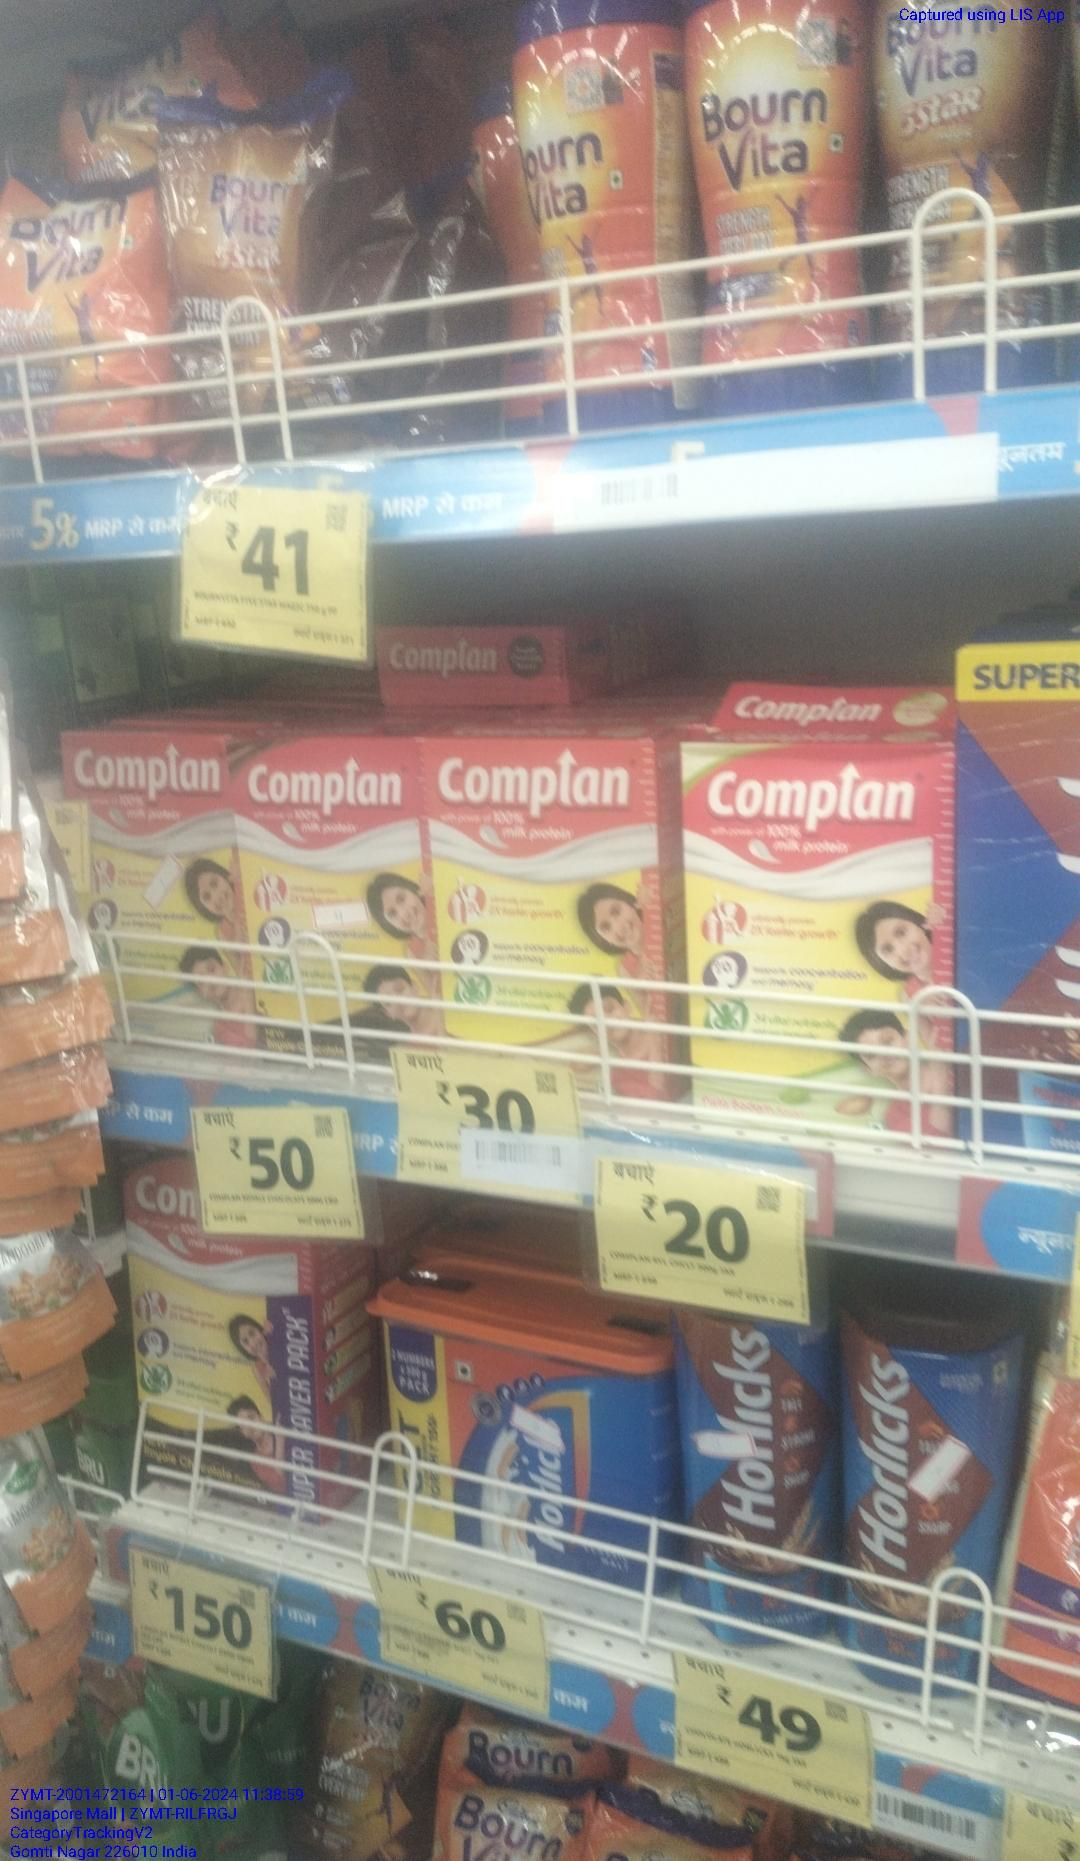BOURN_VITA_FIVE_STAR_MAGIC_500_G_JAR: (874, 0, 1065, 393)
COMPLAN_CHOCOLATE_500_GMS_PACK: (238, 742, 429, 1068)
COMPLAN_CREAMY_CLASSIC_500_G_PACK: (68, 742, 231, 1054)
COMPLAN_KESAR_BADAM_500_GMS_PACK: (444, 736, 662, 1103)
COMPLAN_PISTA_BADAM_500_GMS_PACK: (688, 740, 957, 1146)
HORLICK_CHOCOLATE_1_KG_JAR: (845, 1271, 1014, 1682), (687, 1271, 836, 1649)
